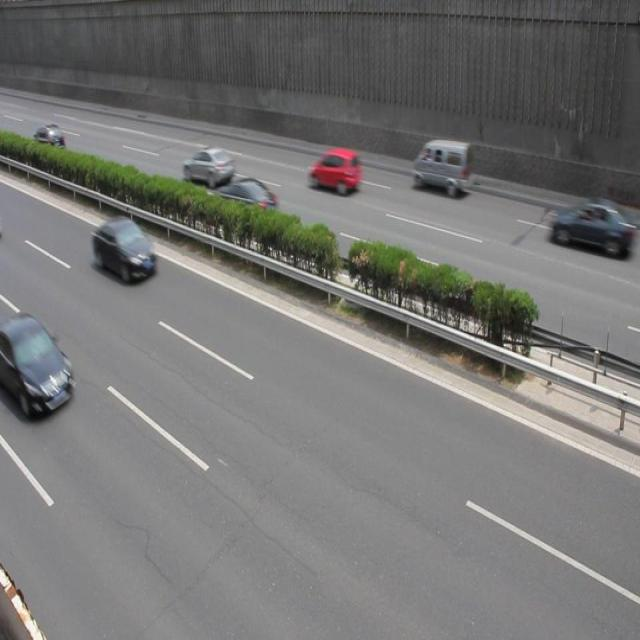car: (0, 311, 74, 417), (92, 216, 158, 284), (211, 175, 282, 232), (548, 196, 617, 253), (308, 148, 362, 198), (182, 148, 236, 187), (32, 123, 67, 158)
truck: (411, 140, 472, 199)
